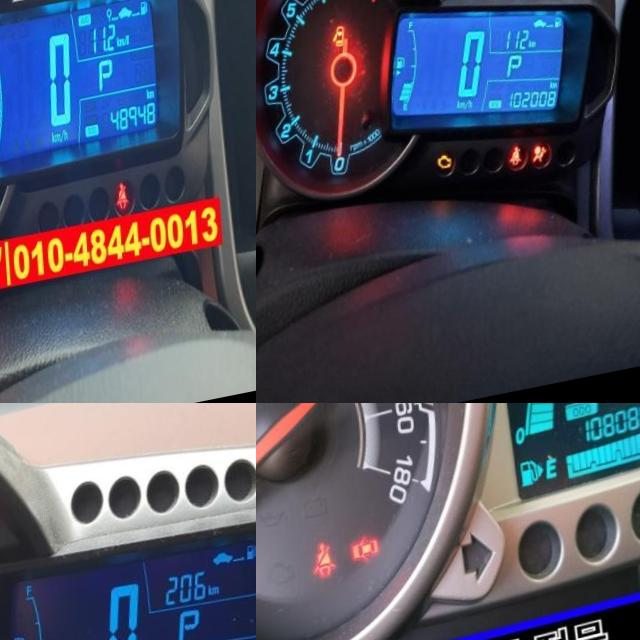Doors: (345, 543, 375, 575), (327, 35, 341, 59)
